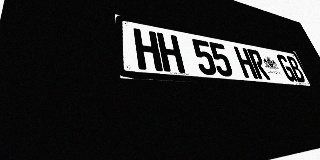5: (191, 39, 218, 76), (208, 42, 235, 77)
B: (285, 56, 307, 83)
G: (275, 54, 298, 82)
H: (133, 28, 163, 71), (156, 32, 185, 73), (233, 46, 258, 79)
R: (247, 49, 271, 80)
